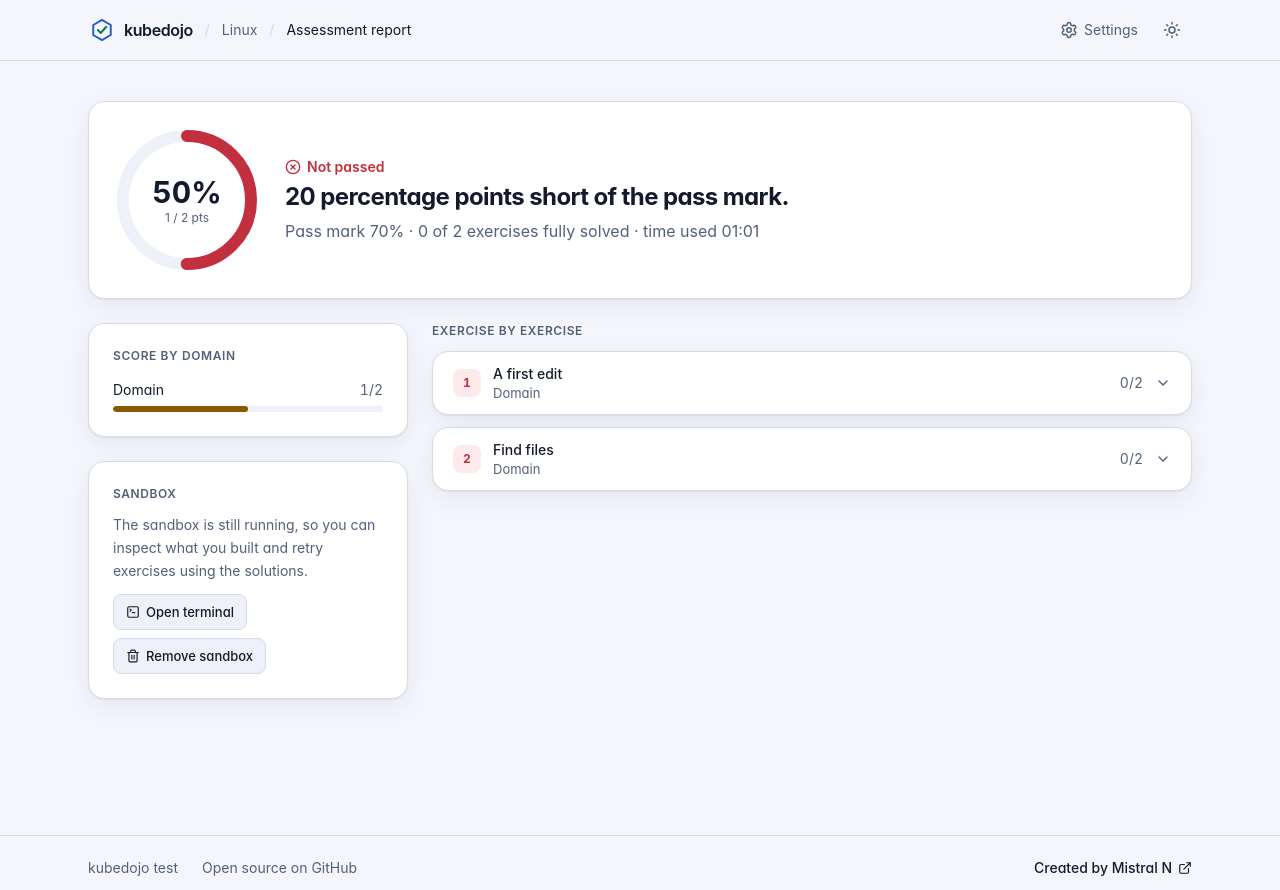
Test case: the assistant on the report of an exam › has no assistant where the server has none
Click the button "1 A first edit Domain 0/2". click: (528, 374)
box: [433,352,1191,414]
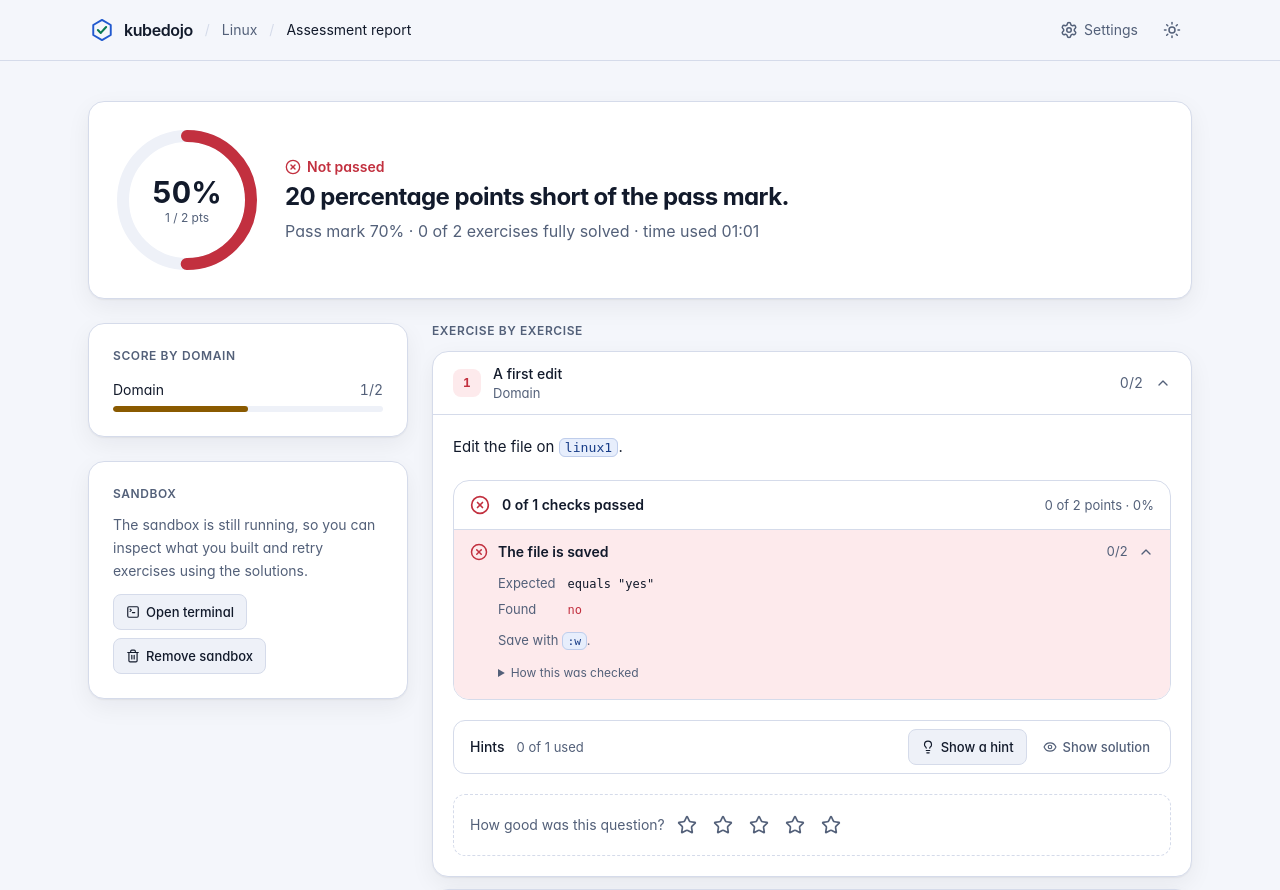
Now the text "0 of 1 checks passed" is shown, box [502,496,644,513]
Now the button "Show solution" is shown, box [1031,728,1162,764]
